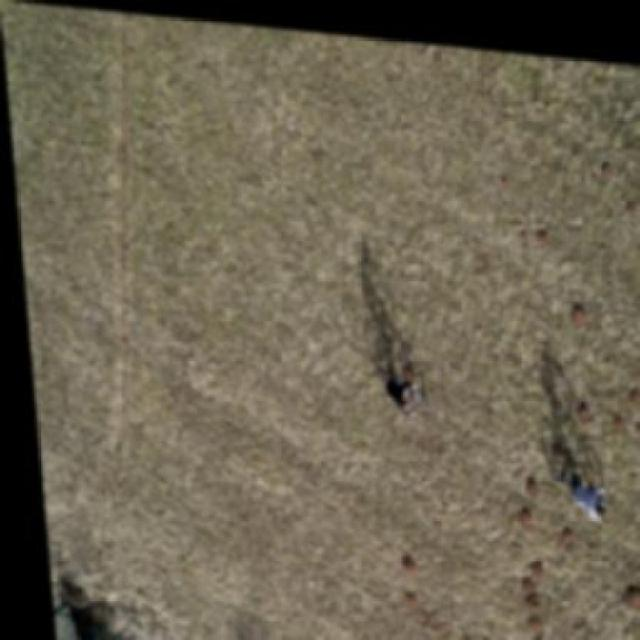Person: (556, 469, 613, 514), (371, 363, 417, 411)
